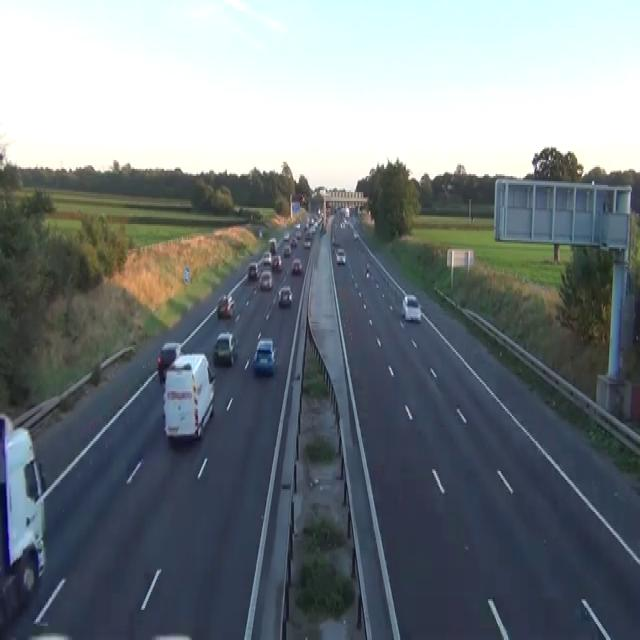Car: (157, 342, 183, 382), (252, 338, 277, 375), (213, 330, 238, 364), (401, 293, 421, 322), (217, 294, 235, 318), (277, 284, 292, 308), (24, 631, 74, 638), (259, 268, 272, 290), (151, 633, 192, 638), (335, 247, 346, 265), (248, 261, 259, 279), (291, 258, 302, 274), (271, 254, 282, 270), (268, 236, 276, 252), (263, 251, 271, 265), (283, 244, 291, 256), (303, 238, 311, 249), (294, 224, 301, 236), (331, 235, 339, 245), (290, 237, 297, 247), (353, 229, 359, 240), (366, 262, 370, 276), (283, 231, 289, 240), (320, 224, 326, 233), (340, 220, 345, 228), (258, 228, 262, 236), (331, 236, 335, 244)
Truck: (0, 410, 46, 628), (162, 352, 215, 441)
